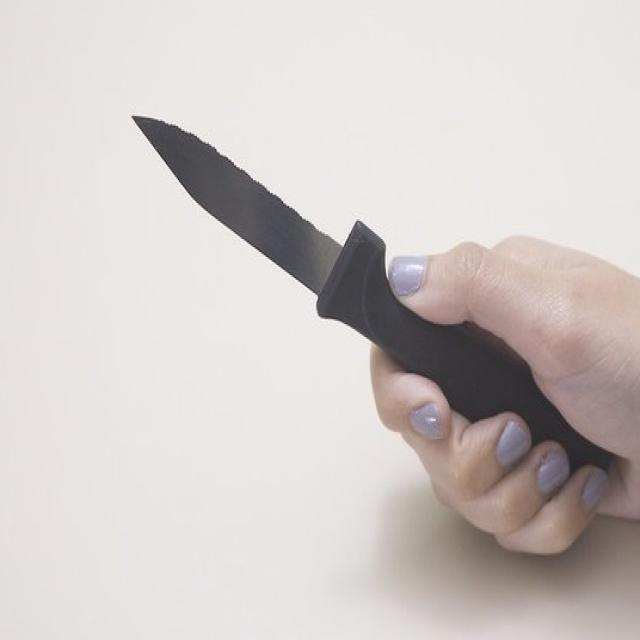knife: (130, 113, 614, 479)
